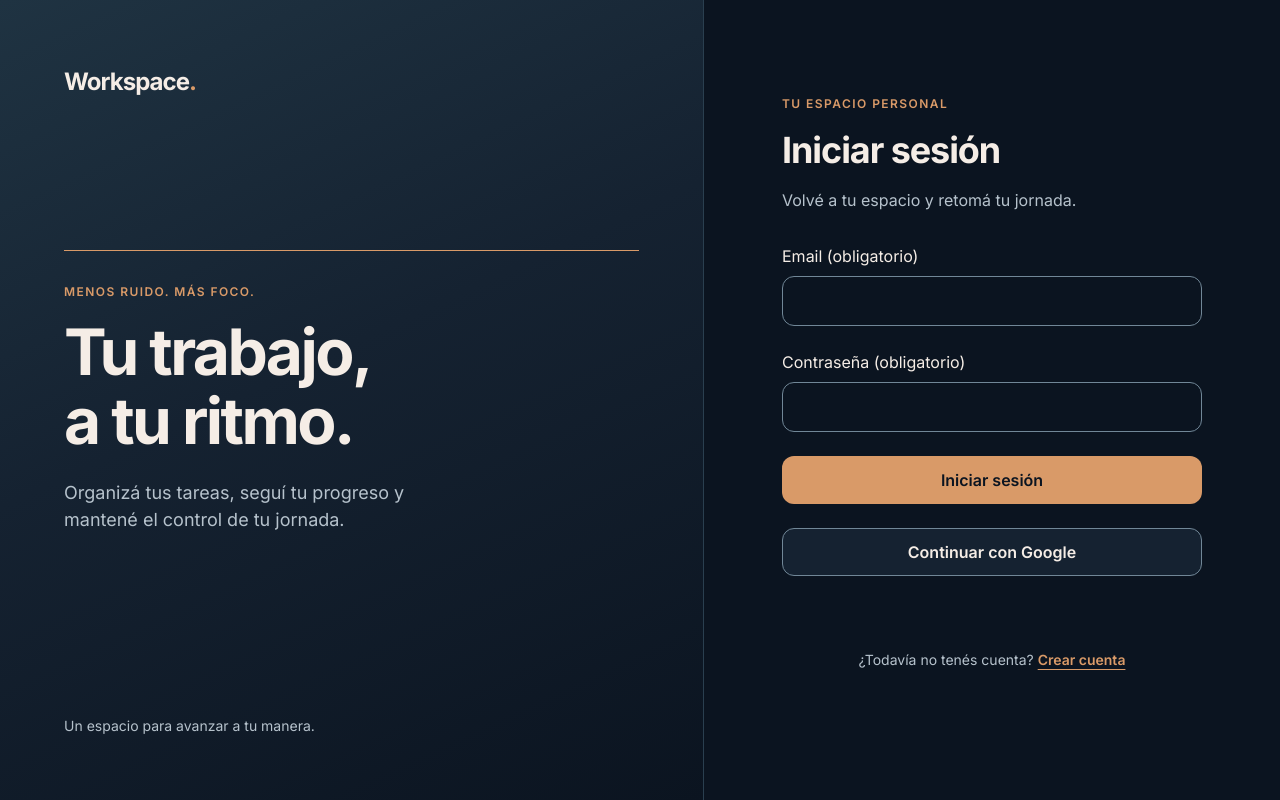
Test: Sesión y rutas › explica auth/popup-blocked y vuelve a habilitar ambos métodos
This screenshot has width=1280, height=800.
Click the button "Continuar con Google" at {"x": 992, "y": 552}, box 782,528 -> 1202,576
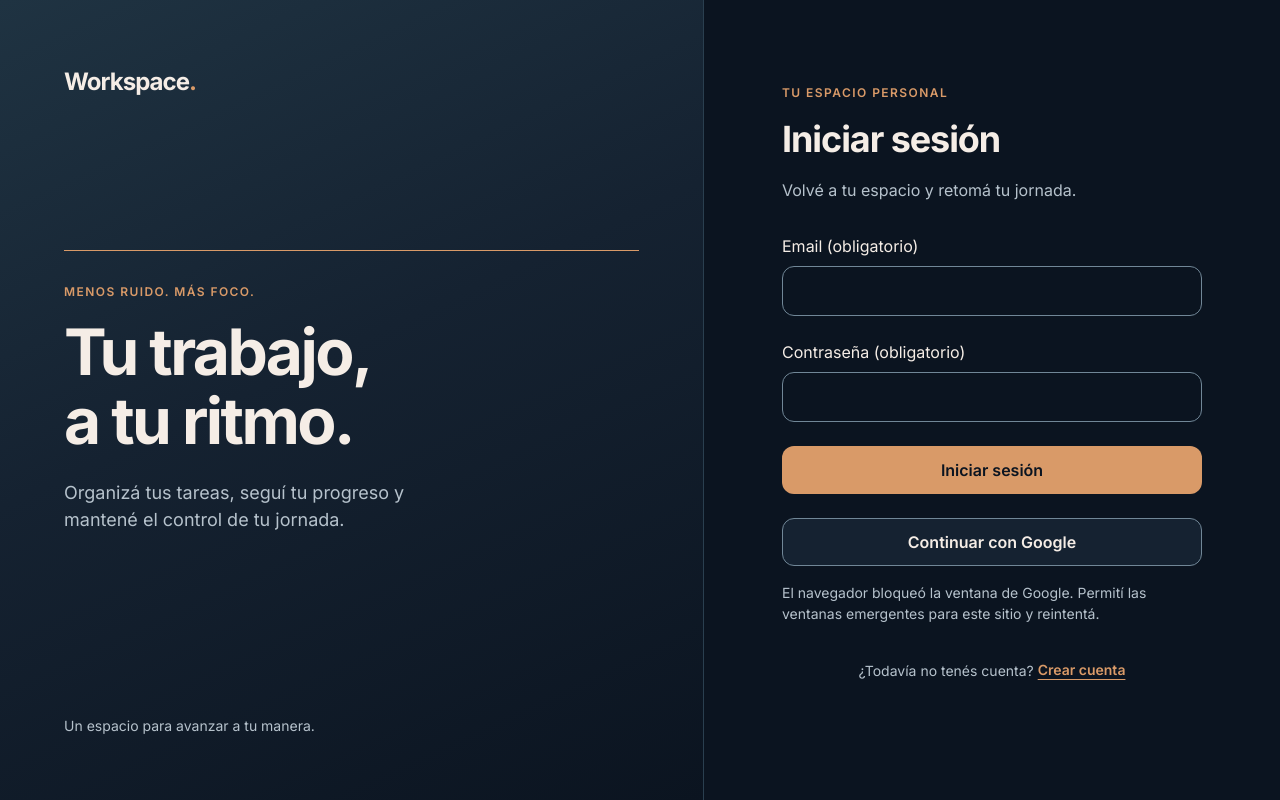
Expected: the message does not show "auth/popup-blocked", 782,582 -> 1202,624
Expected: the message shows "El navegador bloqueó la ventana de Google", 782,584 -> 1146,622
